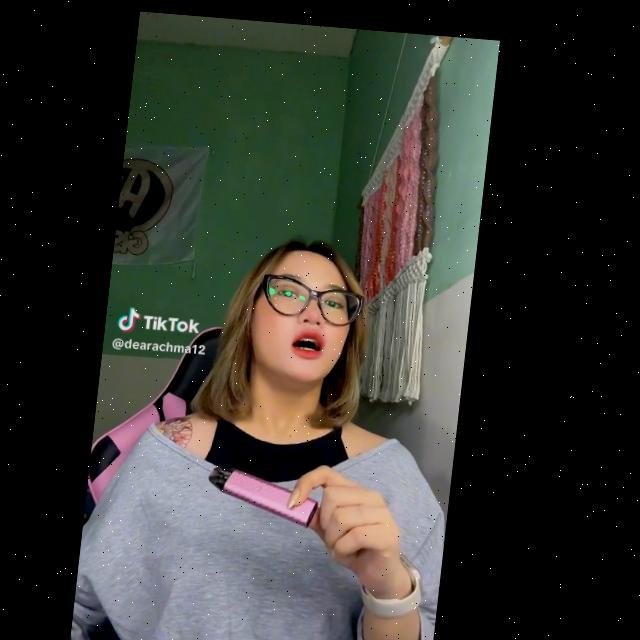vape: (215, 456, 333, 522)
